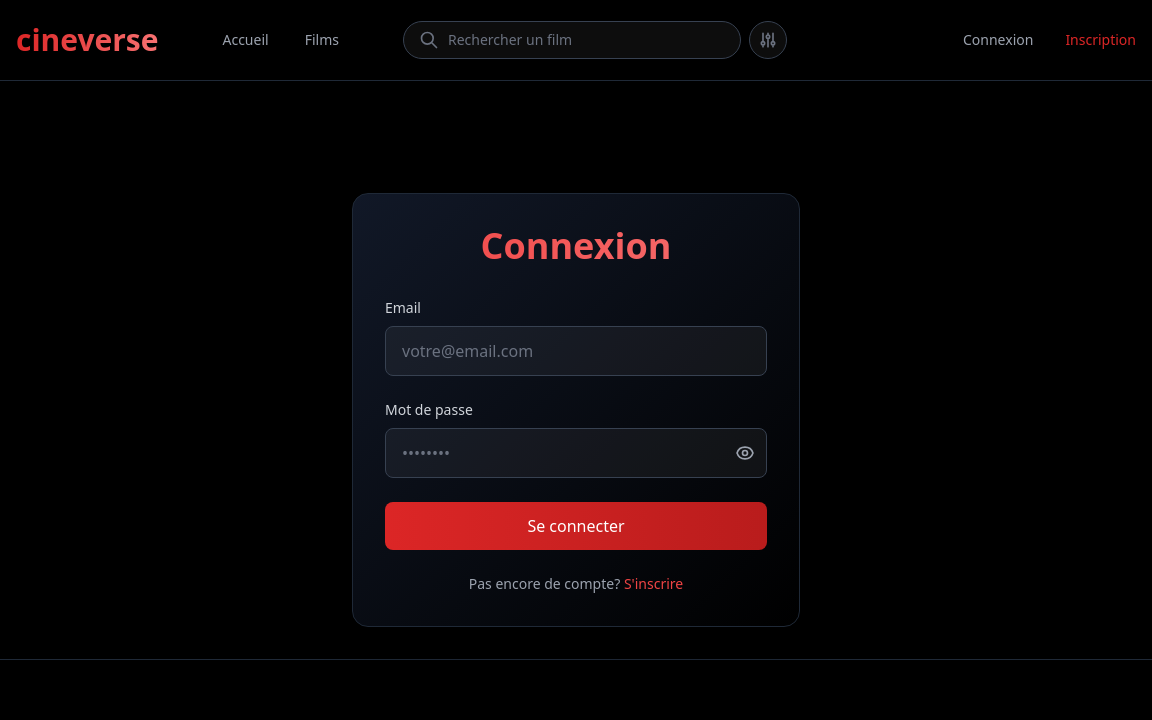
Test d'Authentification › Doit afficher une erreur si le mot de passe est faux
Step 1. Type "ewen.davanzo@gmail.com" into the field labelled "Email" → (576, 351), box [385,326,767,376]
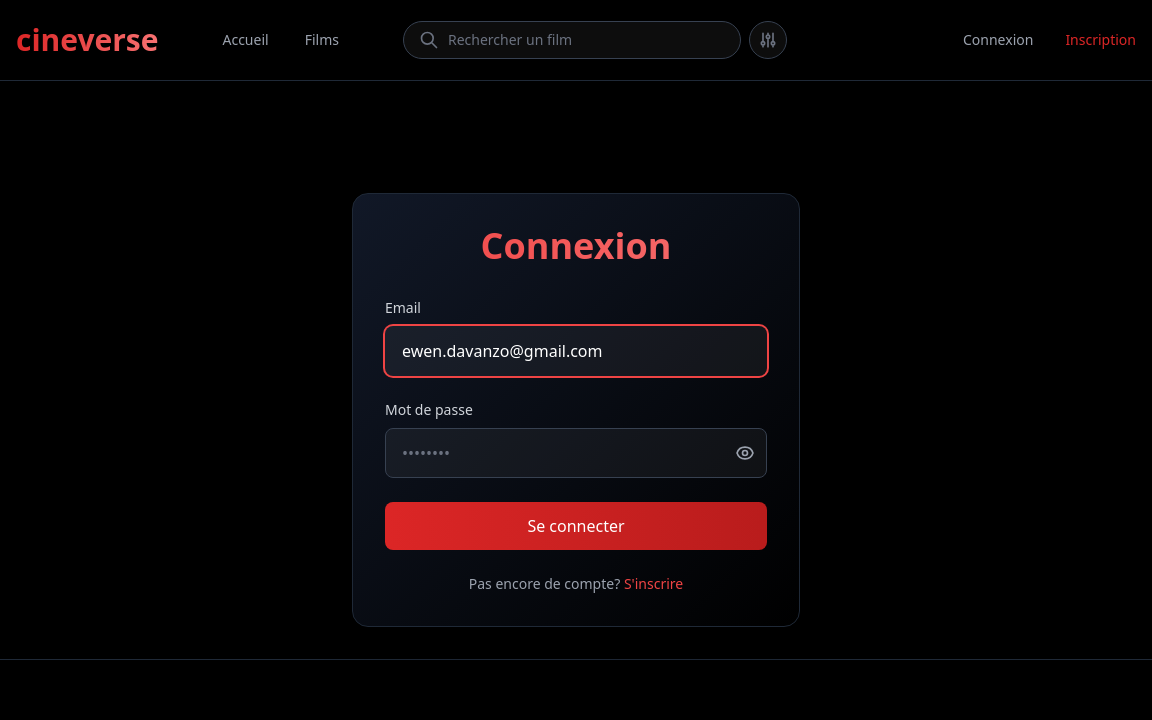
Step 2. Type "MAUVAIS_MOT_DE_PASSE" into the password field labelled "Mot de passe" → (576, 453), box [385,428,767,478]
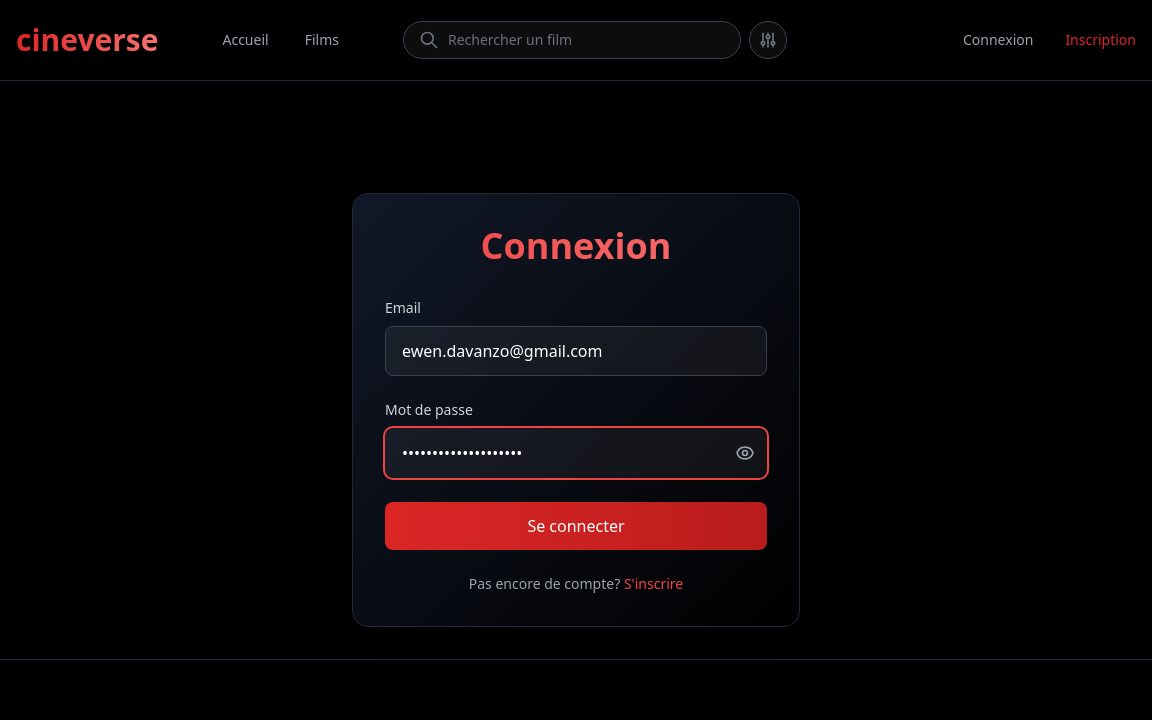
Step 3. Click the button "Se connecter" → (576, 526), box [385,502,767,550]
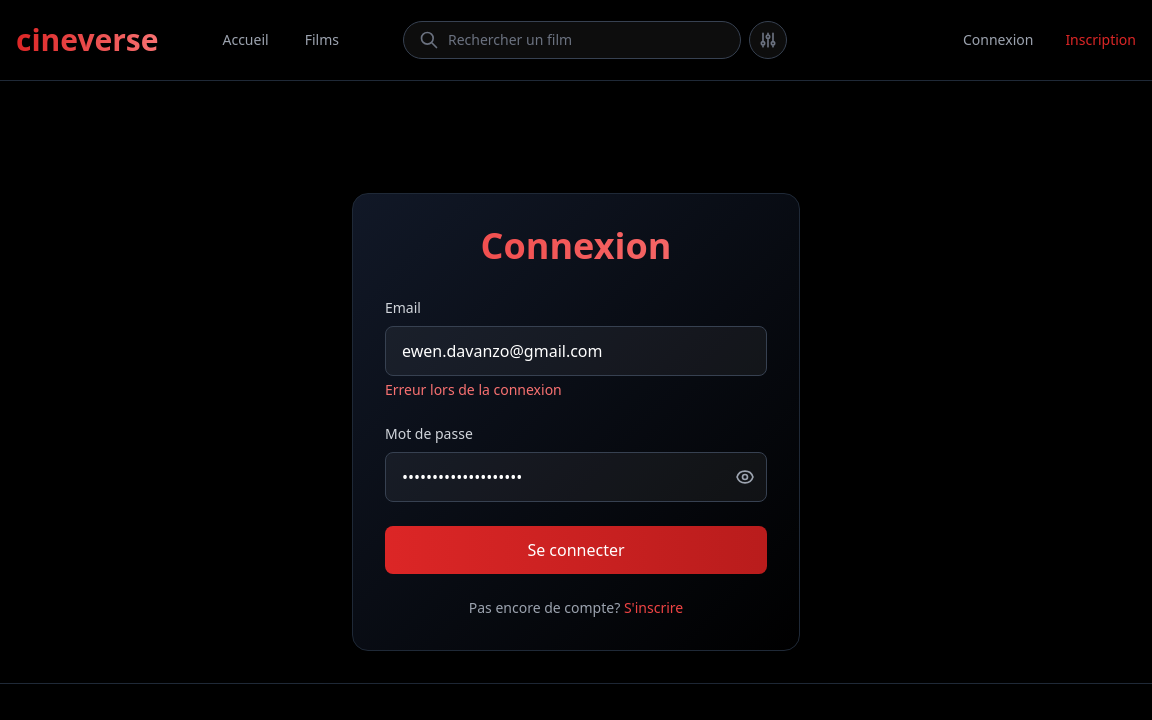
Now the text "Erreur lors de la connexion" is shown, box [385,380,562,399]
